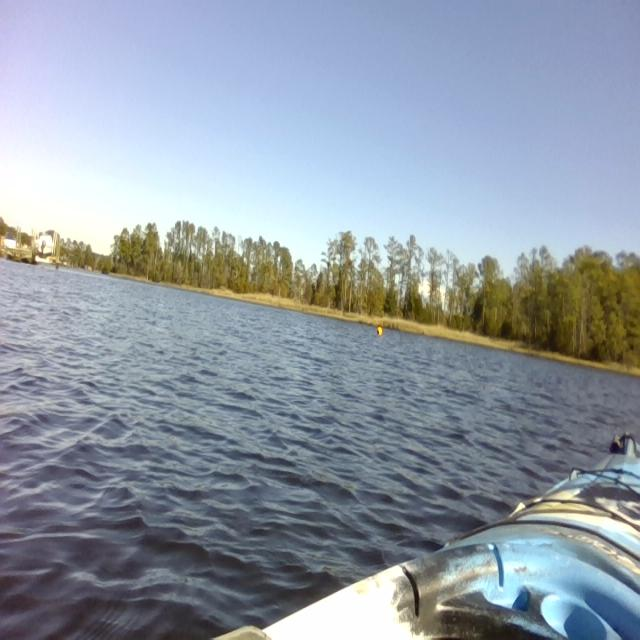Buoy: (376, 325, 384, 341)
